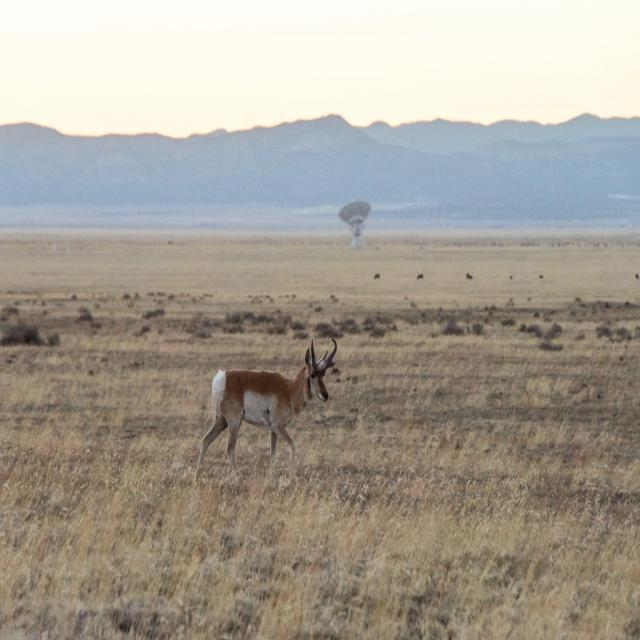Deer: (198, 337, 336, 484)
